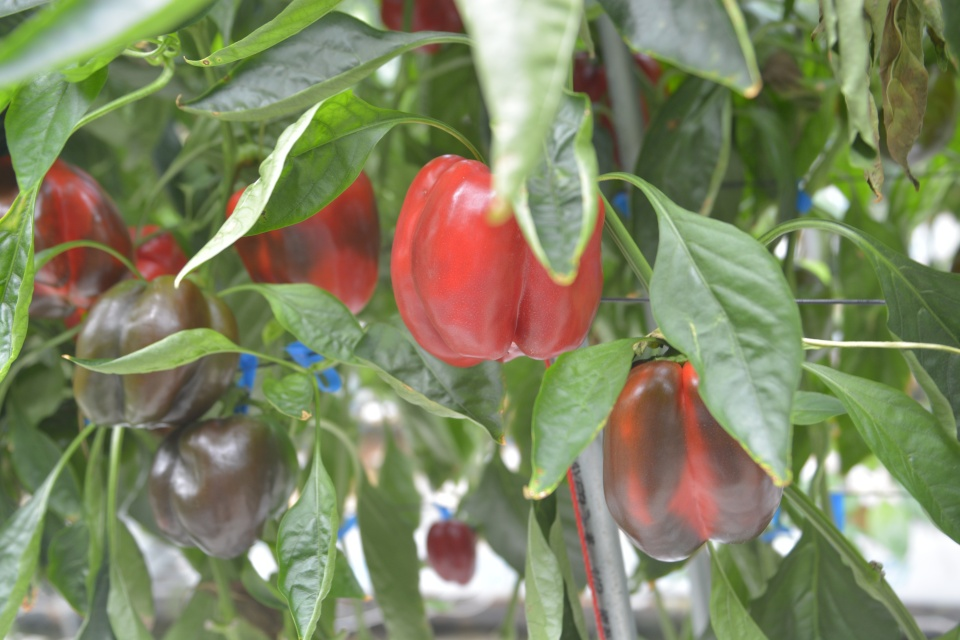fruit: (388, 150, 607, 370), (600, 353, 787, 563), (68, 273, 240, 432), (225, 162, 382, 320), (147, 412, 300, 563), (0, 151, 133, 324), (62, 220, 197, 341), (569, 48, 670, 168), (379, 0, 466, 56), (425, 514, 479, 586)
pedicle: (655, 354, 692, 361)
